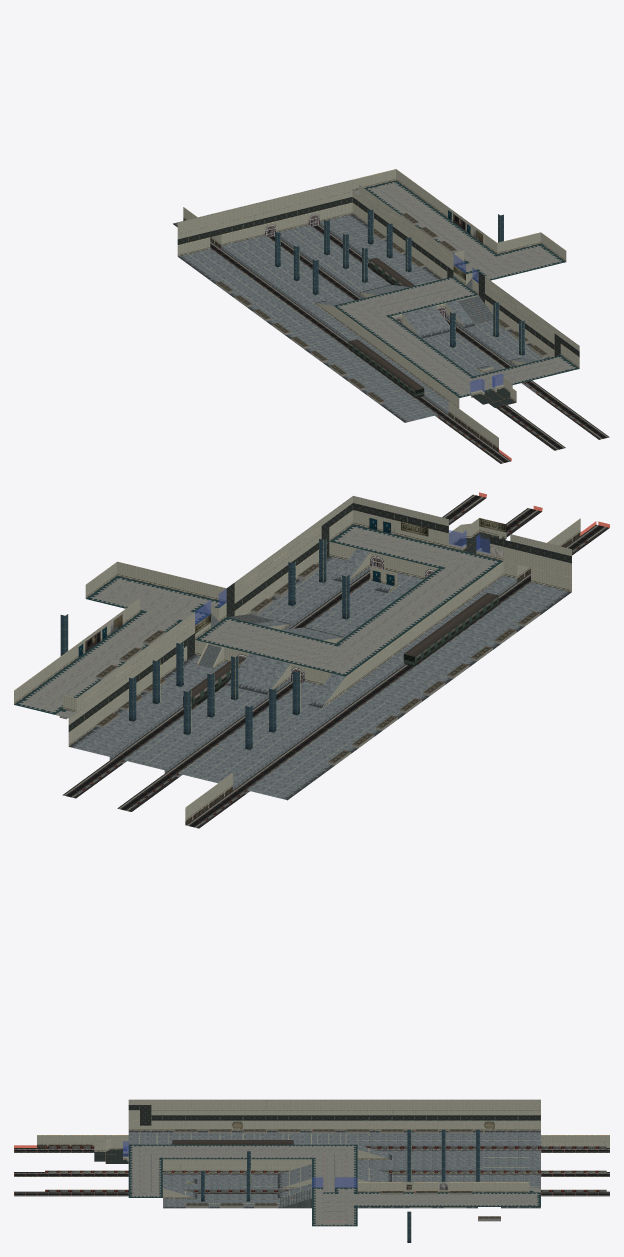
Rendered from thrasher_skate__destroy_ps1_level_2_subway.glb.
3 views of the same model, one above another, from view 1: azimuth 30°, elevation 25°; view 2: azimuth 150°, elevation 25°; view 3: azimuth 270°, elevation 25° (orthographic). The views are drawn at different scales.
Parts seen in each view (by area): view 1: Cube.001, SUBWAY TRAIN_1, Cube.005, Cube.008; view 2: Cube.001, SUBWAY TRAIN_1, Cube.004, WINDOWS, TRAIN, Cube.002, Cube.003, Plane, Cube.009, Cube.005; view 3: Cube.001, Plane.001, Plane, Cube.005, Plane.002, SUBWAY TRAIN_1.
Part boxes in pixels (<box>): Cube.001: <box>173,169,609,463</box>; SUBWAY TRAIN_1: <box>348,339,424,397</box>; Cube.005: <box>402,305,449,338</box>; Cube.008: <box>457,296,493,323</box>; Cube.001: <box>14,492,609,828</box>; SUBWAY TRAIN_1: <box>403,592,498,666</box>; Cube.004: <box>226,653,290,694</box>; WINDOWS: <box>195,530,489,625</box>; TRAIN: <box>183,657,245,708</box>; Cube.002: <box>308,673,345,708</box>; Cube.003: <box>333,548,370,581</box>; Plane: <box>200,540,588,824</box>; Cube.009: <box>197,643,223,668</box>; Cube.005: <box>282,627,344,643</box>; Cube.001: <box>14,1099,609,1242</box>; Plane.001: <box>45,1170,606,1172</box>; Plane: <box>45,1146,606,1148</box>; Cube.005: <box>277,1164,311,1188</box>; Plane.002: <box>45,1189,606,1191</box>; SUBWAY TRAIN_1: <box>172,1140,293,1144</box>.
Size of the model in its own units: 25.56 by 15.3 by 37.45.
Materials: 4 (3 with a texture image).
